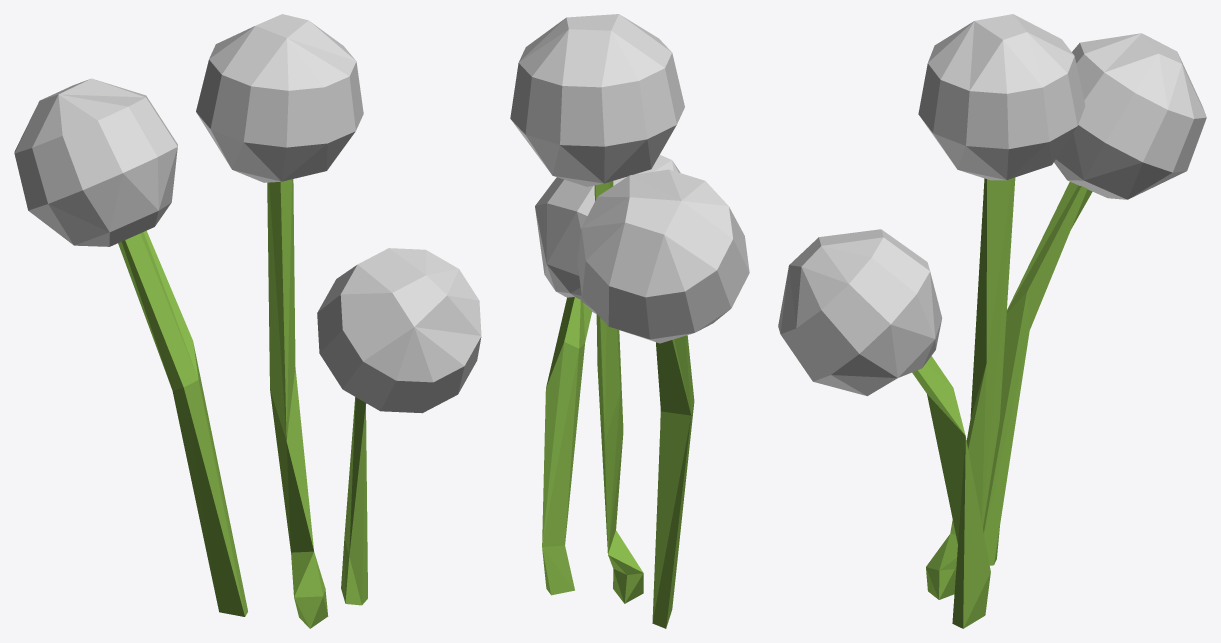
File: dandelions.glb
The picture shows the model from 3 angles, left to right: view 1: azimuth 30°, elevation 25°; view 2: azimuth 150°, elevation 25°; view 3: azimuth 270°, elevation 25°; orthographic projection. The views are drawn at different scales.
Parts seen in each view (by area): view 1: Node; view 2: Node; view 3: Node.
Part boxes in pixels (x1,y1,x2,y2): Node: [14, 14, 481, 628]; Node: [510, 14, 749, 628]; Node: [778, 14, 1206, 628].
Bounding box in the file's own units: 0.1058 × 0.1856 × 0.1259.
